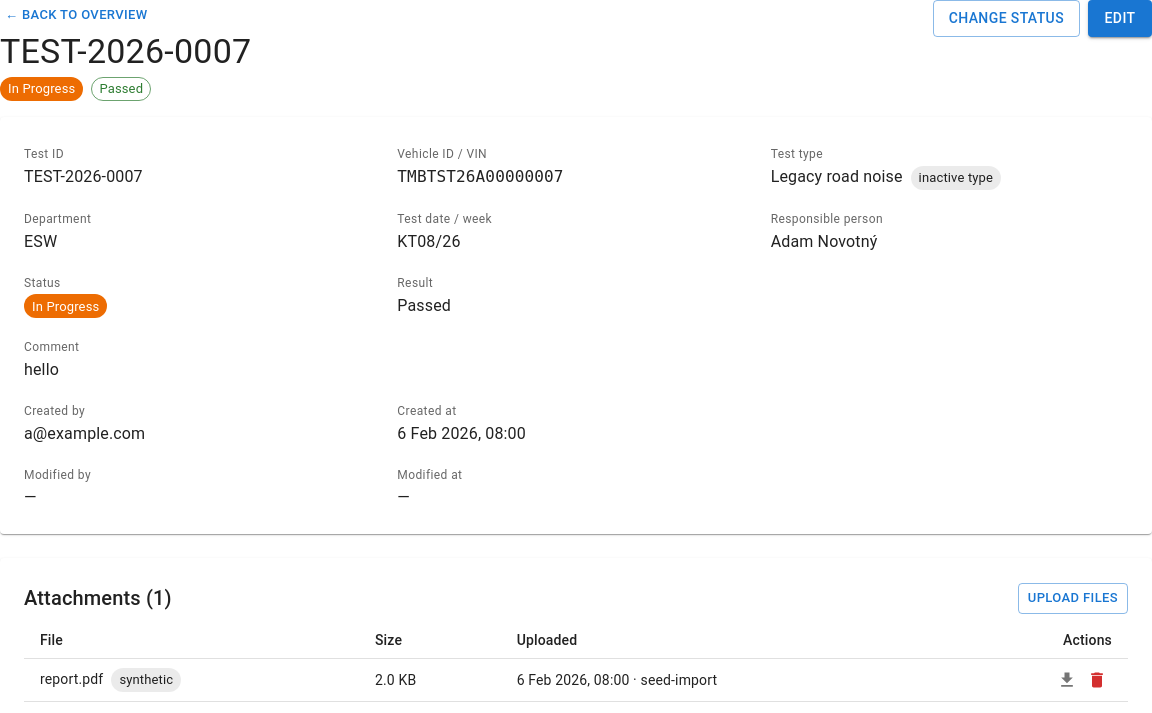
Test: API error handling › shows the exact reason when the backend rejects a transition to Completed
This screenshot has width=1152, height=713.
Click the button "Change status" at {"x": 1006, "y": 18}, box [933, 0, 1080, 36]
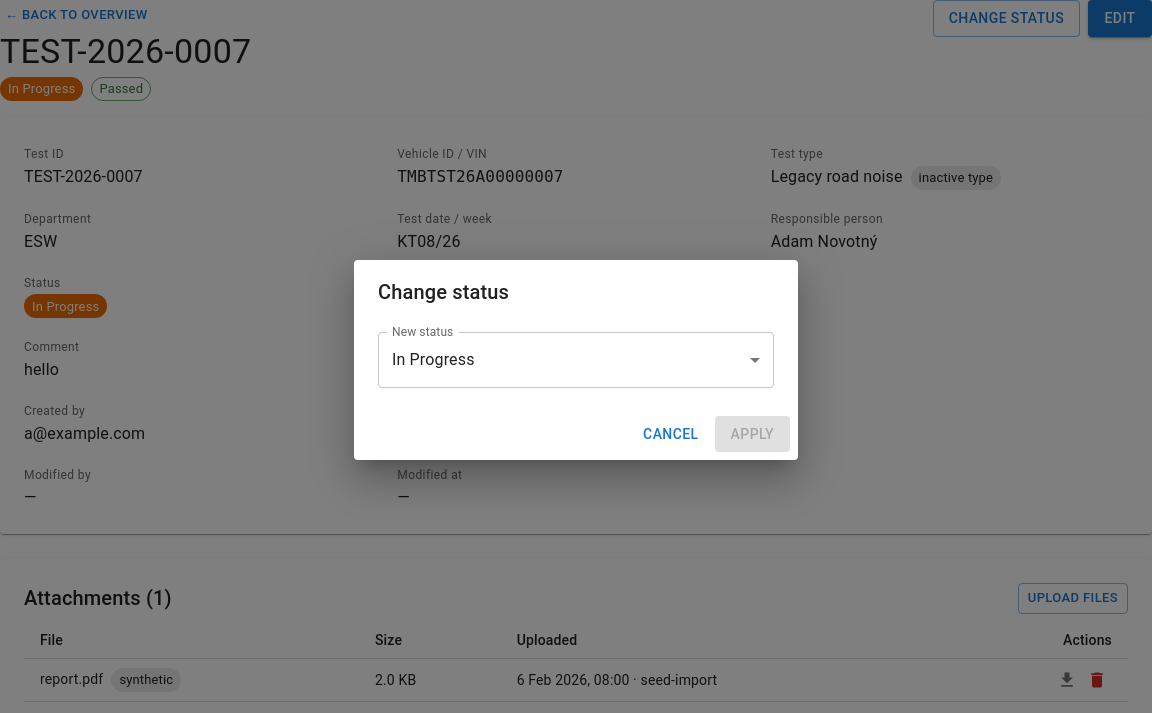
Click the dropdown named "new status" at {"x": 433, "y": 360}, box [392, 350, 475, 369]
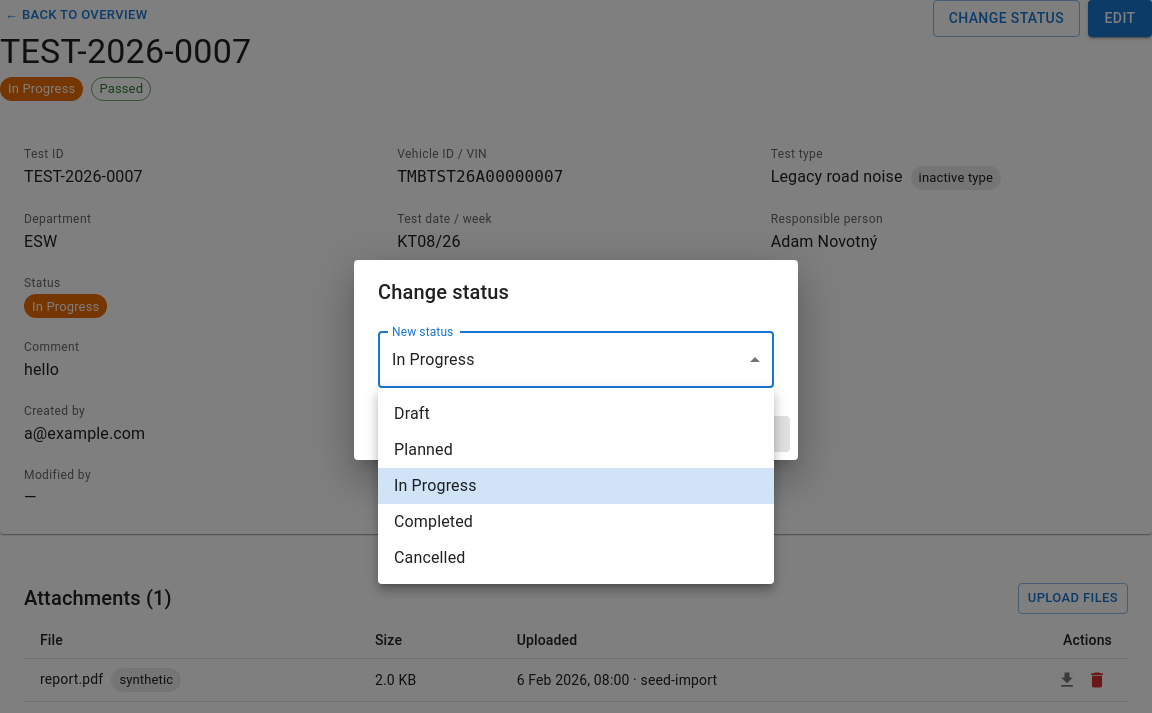
Click the option "Completed" at {"x": 434, "y": 522}, box [394, 512, 473, 531]
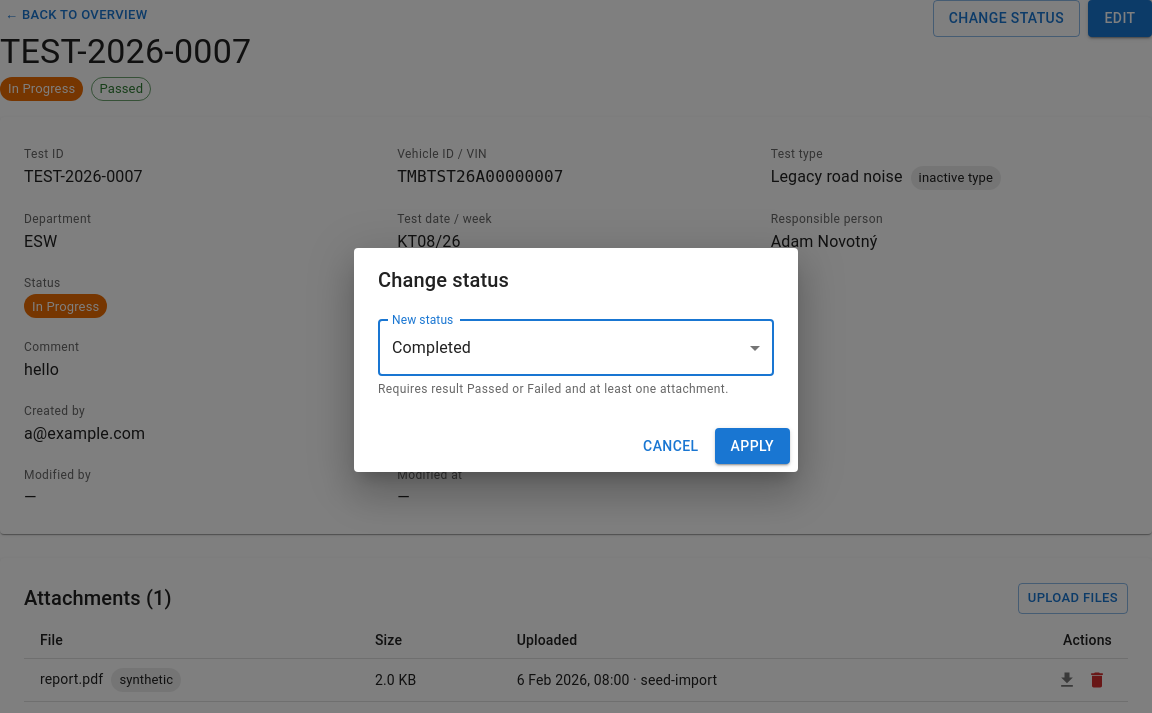
Click the button "Apply" at {"x": 752, "y": 446}, box [715, 428, 790, 464]
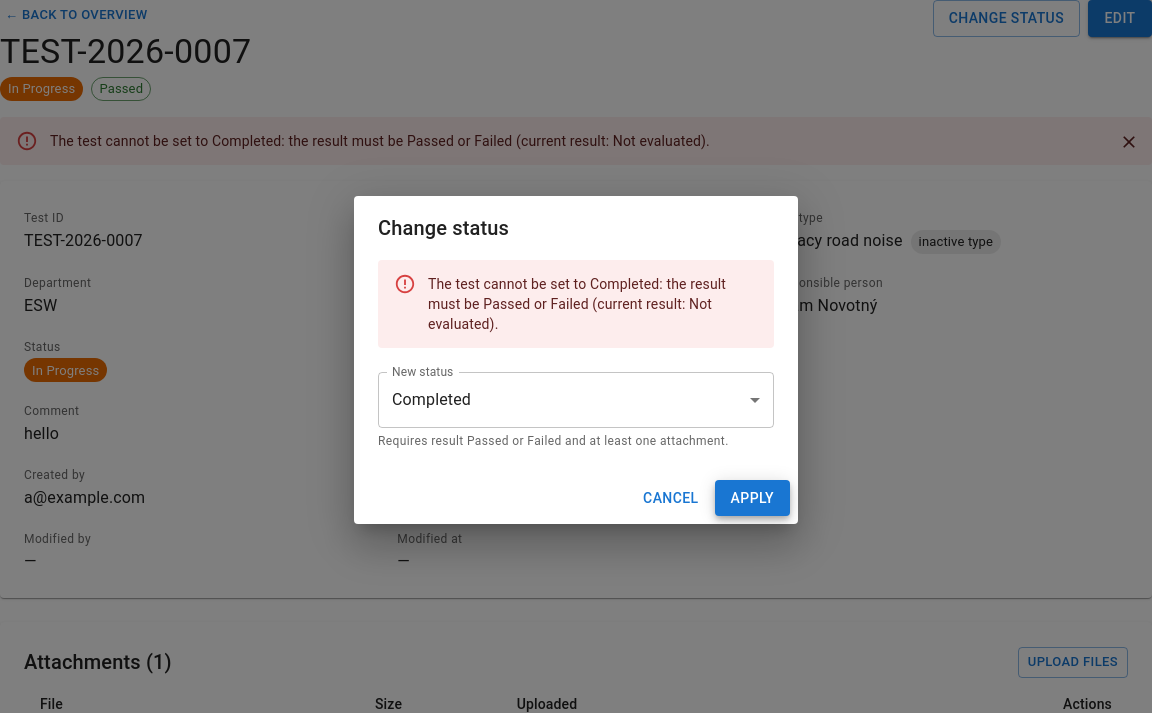
Result: the text "current result: Not evaluated" below "← Back to overview" is shown at [50, 133, 710, 149]
